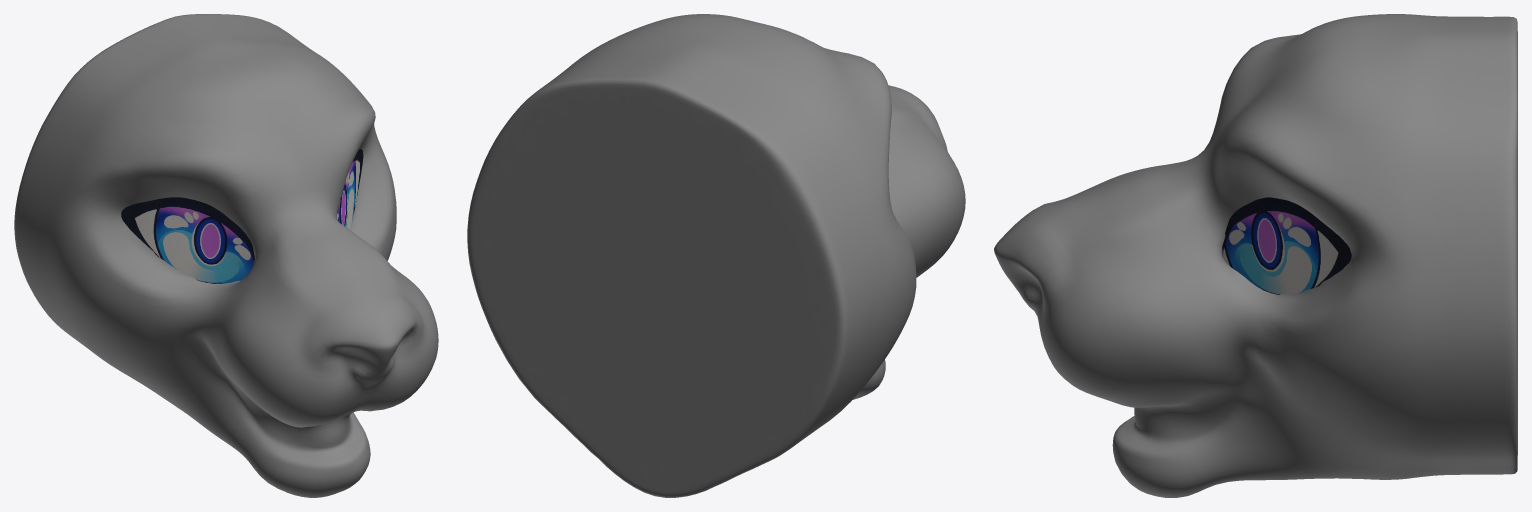
Rendered from slim_big_cat2.glb.
3 renders of one model, left to right at view 1: azimuth 30°, elevation 25°; view 2: azimuth 150°, elevation 25°; view 3: azimuth 270°, elevation 25°, orthographic. The views are drawn at different scales.
Visible parts, largest first — view 1: Retopo_SLIM_BASE.004, EYES; view 2: Retopo_SLIM_BASE.004; view 3: Retopo_SLIM_BASE.004, EYES.
Part boxes in pixels (x1,y1,x2,y2): Retopo_SLIM_BASE.004: (14, 14, 438, 497); EYES: (121, 149, 363, 283); Retopo_SLIM_BASE.004: (467, 14, 965, 497); Retopo_SLIM_BASE.004: (994, 14, 1517, 497); EYES: (1222, 197, 1351, 294).
Bounding box in the file's own units: 12.28 × 13.48 × 14.17.
2 materials, 1 textured.
